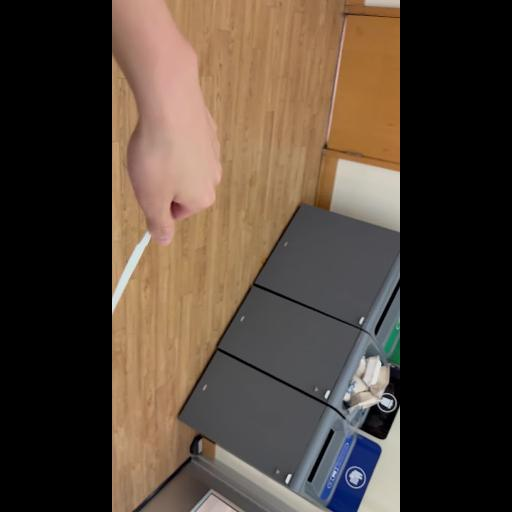utensil: (114, 208, 158, 322)
